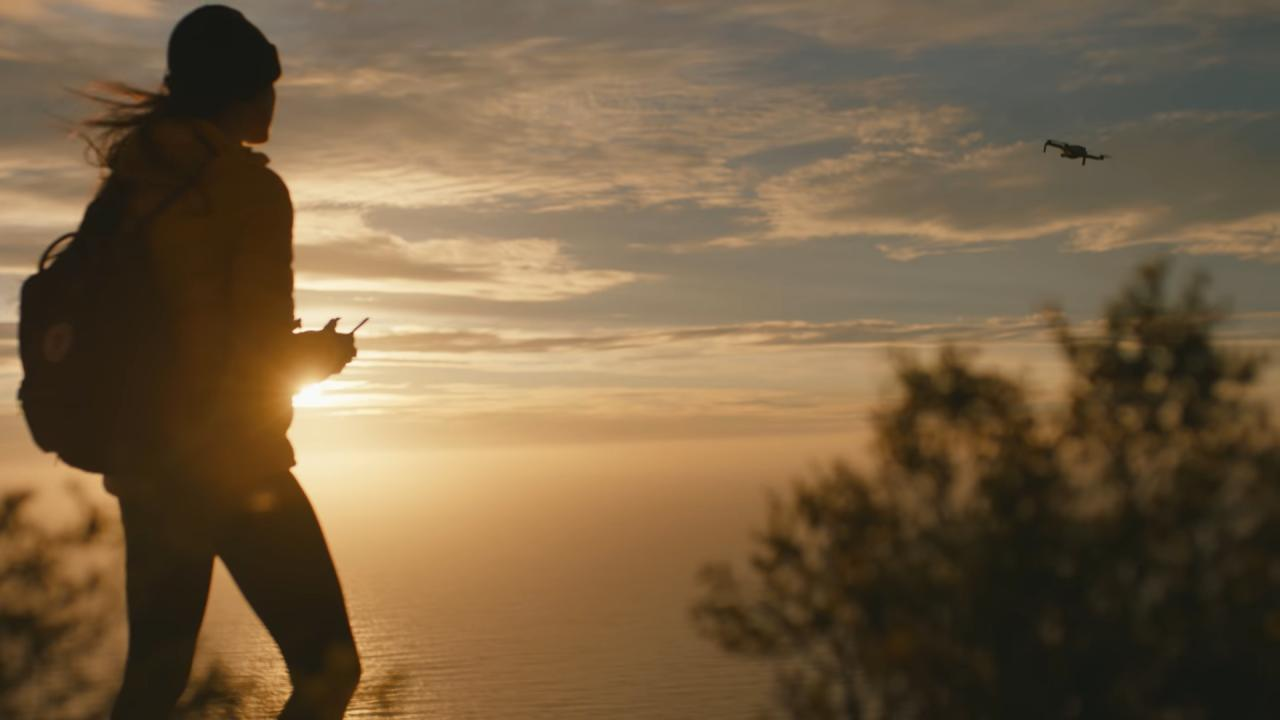Drone: (1028, 125, 1120, 181)
